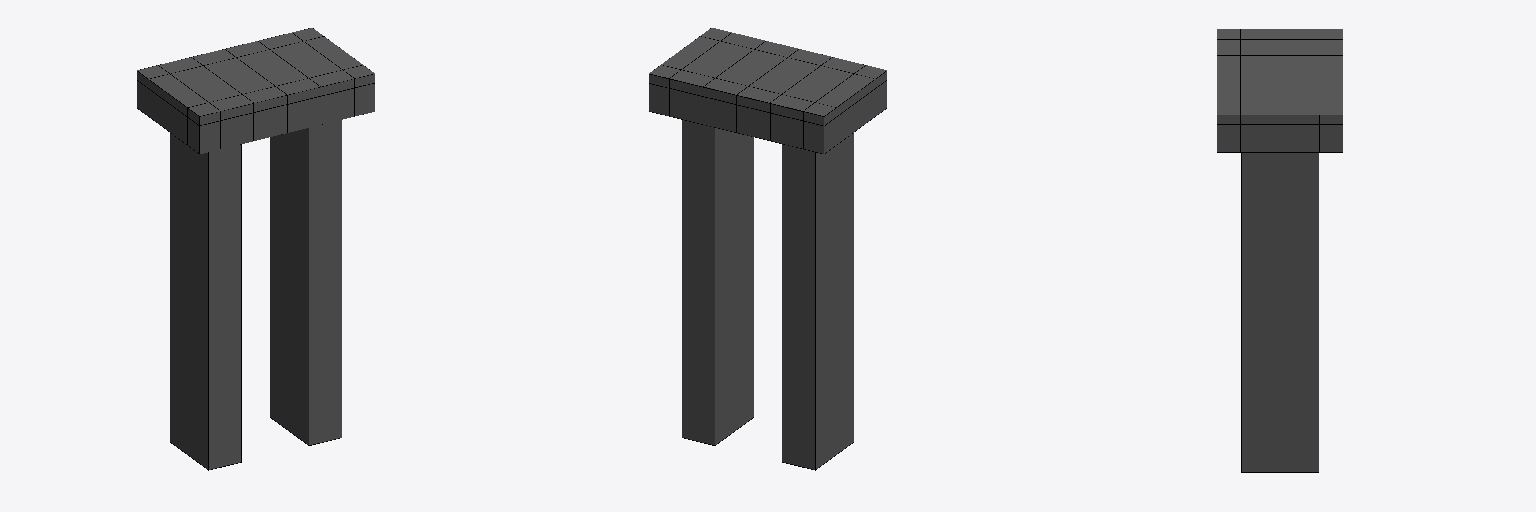
3 views of the same model, side by side, from view 1: azimuth 30°, elevation 25°; view 2: azimuth 150°, elevation 25°; view 3: azimuth 270°, elevation 25° (orthographic).
Parts seen in each view (by area): view 1: lever_Cube.005; view 2: lever_Cube.005; view 3: lever_Cube.005.
Part boxes in pixels (x1,y1,x2,y2): lever_Cube.005: (137, 28, 374, 470); lever_Cube.005: (649, 28, 886, 470); lever_Cube.005: (1217, 29, 1342, 472).
Bounding box in the file's own units: 0.5904 × 1.18 × 0.3671.
Materials: 1 (1 with a texture image).